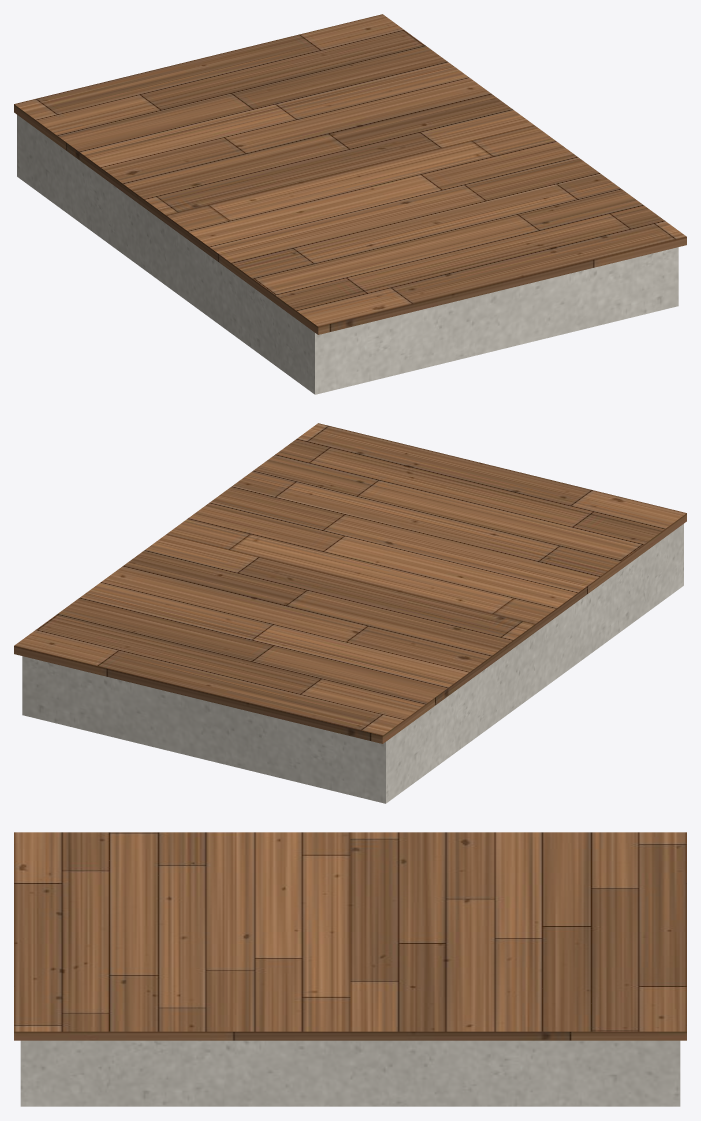
File: floor_floor_u_e1000_h4.glb
The picture shows the model from 3 angles, top to bottom: view 1: azimuth 30°, elevation 25°; view 2: azimuth 150°, elevation 25°; view 3: azimuth 270°, elevation 25°; orthographic projection. The views are drawn at different scales.
Parts seen in each view (by area): view 1: floor_floor_u_e1000_h4_floor, floor_floor_u_e1000_h4_plaster; view 2: floor_floor_u_e1000_h4_floor, floor_floor_u_e1000_h4_plaster; view 3: floor_floor_u_e1000_h4_floor, floor_floor_u_e1000_h4_plaster.
Boxes of the visible parts, bbox=[...] form: floor_floor_u_e1000_h4_floor: bbox=[14, 14, 686, 334]; floor_floor_u_e1000_h4_plaster: bbox=[17, 115, 678, 394]; floor_floor_u_e1000_h4_floor: bbox=[14, 423, 686, 743]; floor_floor_u_e1000_h4_plaster: bbox=[22, 524, 683, 803]; floor_floor_u_e1000_h4_floor: bbox=[14, 832, 686, 1040]; floor_floor_u_e1000_h4_plaster: bbox=[20, 1040, 680, 1106].
Size of the model in its own units: 1.4 by 0.255 by 2.
2 materials, 2 textured.
